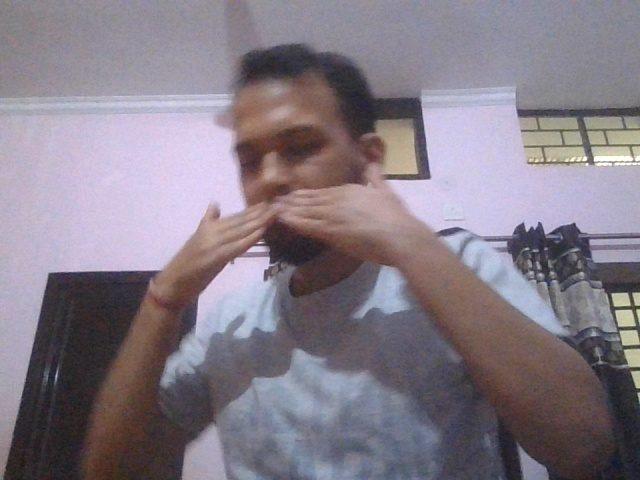thanks: (156, 165, 447, 293)
